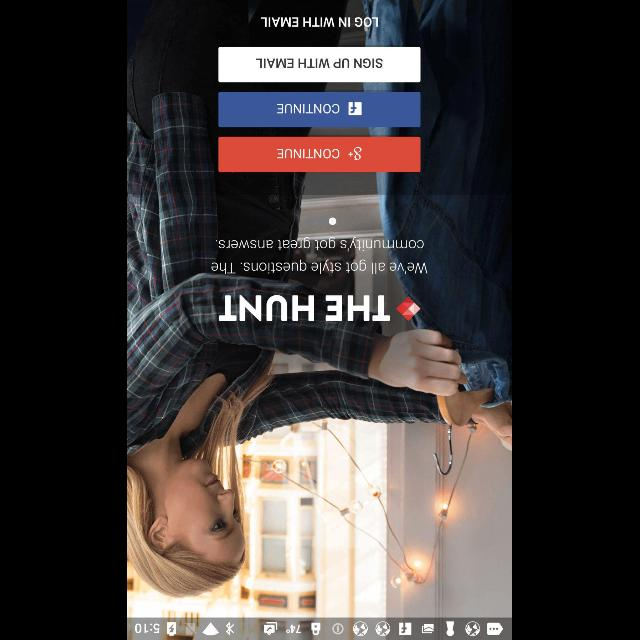backgroundimage: (128, 0, 512, 618)
image: (396, 297, 422, 321)
pageindicator: (307, 217, 337, 226)
text: (212, 236, 428, 274), (219, 295, 391, 321), (261, 17, 379, 27)
textbutton: (219, 136, 421, 172), (219, 91, 421, 127), (219, 48, 421, 82)
uppertaskbar: (128, 617, 512, 639)
